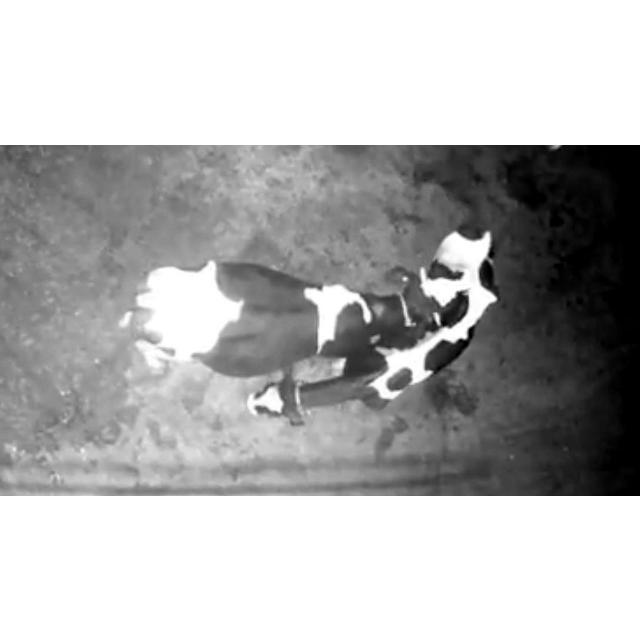propping: (378, 260, 500, 336)
